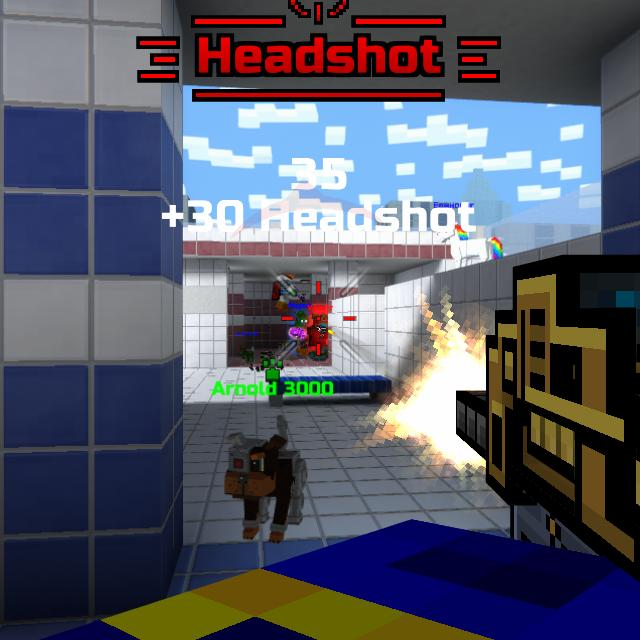Enemy: (307, 313, 328, 356)
